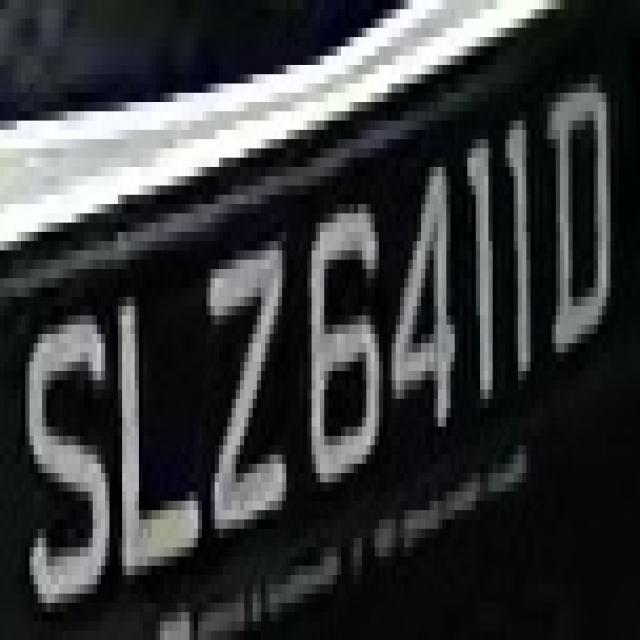1: (497, 84, 539, 418), (463, 102, 505, 427)
4: (375, 139, 459, 482)
6: (290, 167, 396, 510)
D: (543, 56, 632, 380)
L: (101, 241, 211, 603)
S: (25, 278, 114, 622)
Z: (185, 213, 295, 575)
